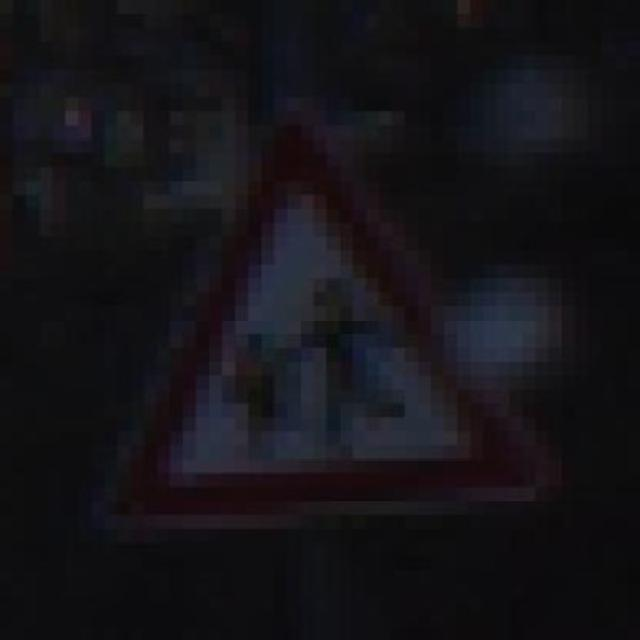Beware of children: (79, 111, 523, 529)
